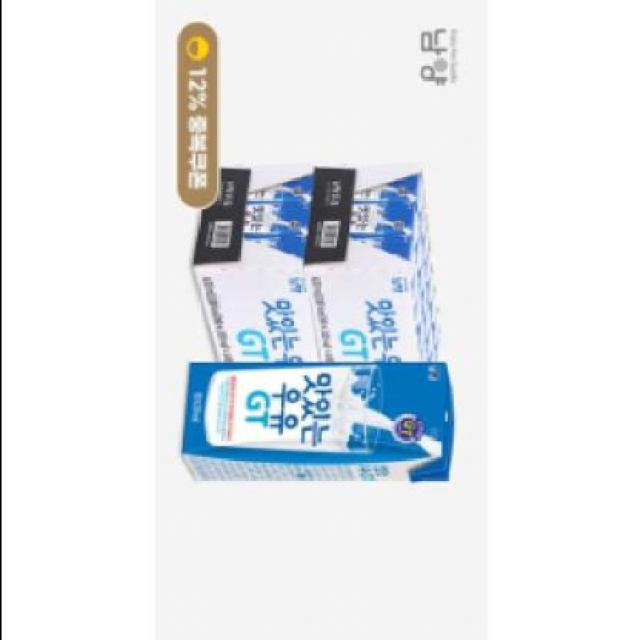tetra: (162, 348, 476, 507)
